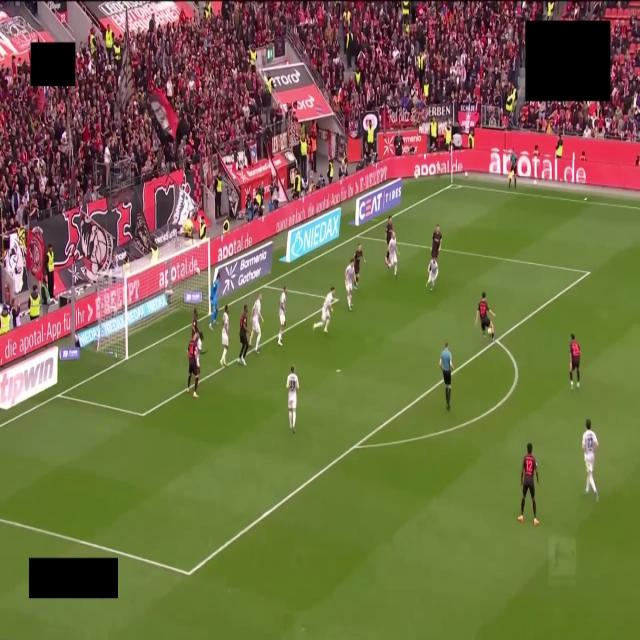ball: (488, 328, 491, 334)
player: (518, 443, 538, 526), (582, 419, 598, 501), (313, 287, 334, 332), (187, 332, 201, 398), (476, 292, 494, 340), (249, 294, 263, 353), (287, 366, 299, 433), (209, 273, 221, 329), (238, 305, 249, 365), (570, 334, 580, 390), (345, 258, 355, 311), (220, 305, 228, 367), (354, 244, 365, 288), (278, 286, 286, 345), (388, 232, 397, 277), (431, 225, 442, 260), (427, 257, 438, 290), (386, 216, 393, 246), (192, 308, 199, 334)
referee: (439, 343, 453, 410)
